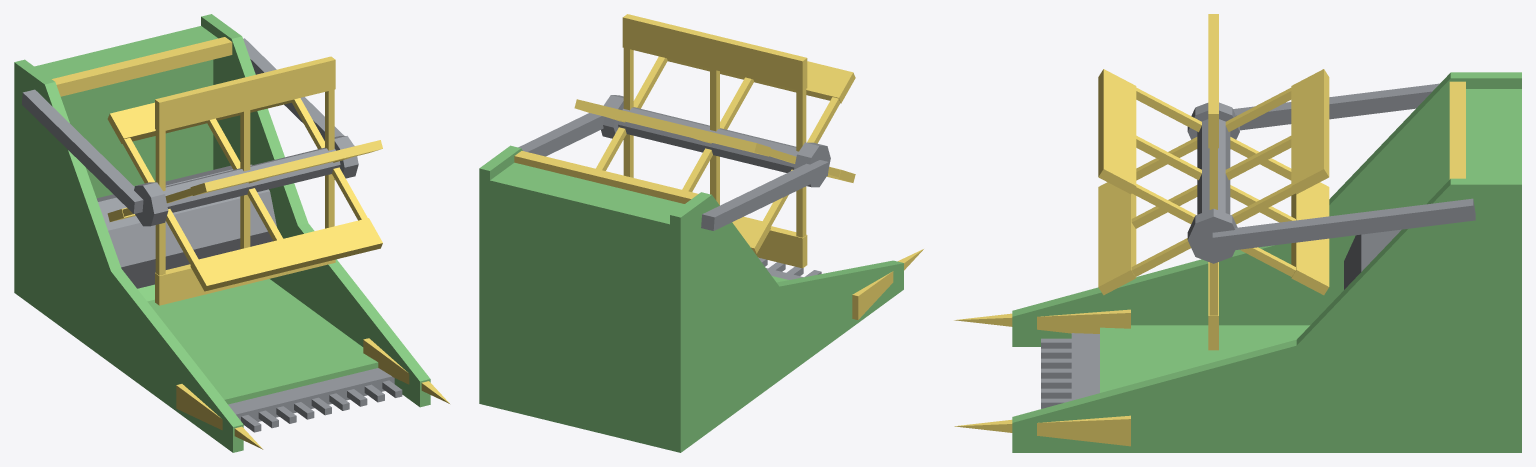
Rendered from header.glb.
3 renders of one model, left to right at view 1: azimuth 30°, elevation 25°; view 2: azimuth 150°, elevation 25°; view 3: azimuth 270°, elevation 25°, orthographic. The views are drawn at different scales.
Visible parts, largest first — view 1: tray, shield_R, reel_bats, shield_L, auger, reel_arms, top_rail, reel_arm_R, reel_axle, cutter_bar, guards, divider_R (+4 smaller); view 2: tray, shield_R, reel_bats, reel_arms, reel_axle, shield_L, reel_arm_R, top_rail, reel_arm_L, divider_R, bearing_R, bearing_L; view 3: shield_L, shield_R, reel_bats, tray, reel_arms, reel_arm_L, reel_arm_R, divider_L, divider_R, reel_axle, guards, cutter_bar (+4 smaller).
Boxes of the visible parts, x1,y1,x2,y2 form: tray: (34,26,378,404); shield_R: (14,59,243,452); reel_bats: (107,56,382,305); shield_L: (201,14,430,407); auger: (96,164,276,288); reel_arms: (122,89,367,275); top_rail: (52,37,232,96); reel_arm_R: (22,89,143,213); reel_axle: (163,147,340,212); cutter_bar: (228,368,394,425); guards: (241,380,402,432); divider_R: (176,384,263,449); tray: (490,162,788,450); shield_R: (670,192,903,452); reel_bats: (574,14,855,268); reel_arms: (596,48,840,237); reel_axle: (618,107,798,172); shield_L: (479,145,522,406); reel_arm_R: (701,160,828,230); top_rail: (514,151,698,203); reel_arm_L: (518,113,604,156); divider_R: (852,249,923,319); bearing_R: (794,142,830,187); bearing_L: (601,95,623,138); shield_L: (1012,178,1521,452); shield_R: (1012,72,1521,346); reel_bats: (1098,14,1329,350); tray: (1100,89,1521,392); reel_arms: (1131,87,1295,315); reel_arm_L: (1212,198,1475,252); reel_arm_R: (1233,83,1439,130); divider_L: (954,415,1130,446); divider_R: (954,309,1130,333); reel_axle: (1197,119,1230,214); guards: (1041,338,1071,408); cutter_bar: (1071,333,1099,400).
Size of the model in its own units: 1.26 by 1.55 by 2.4.
